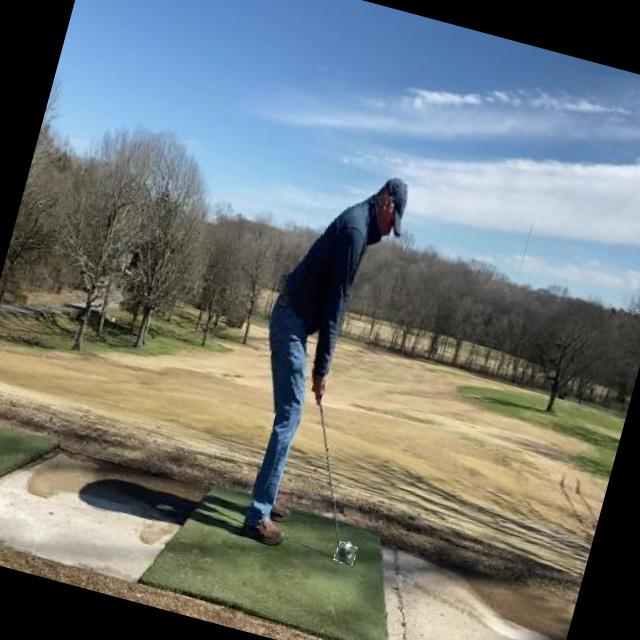club head: (333, 541, 357, 565)
